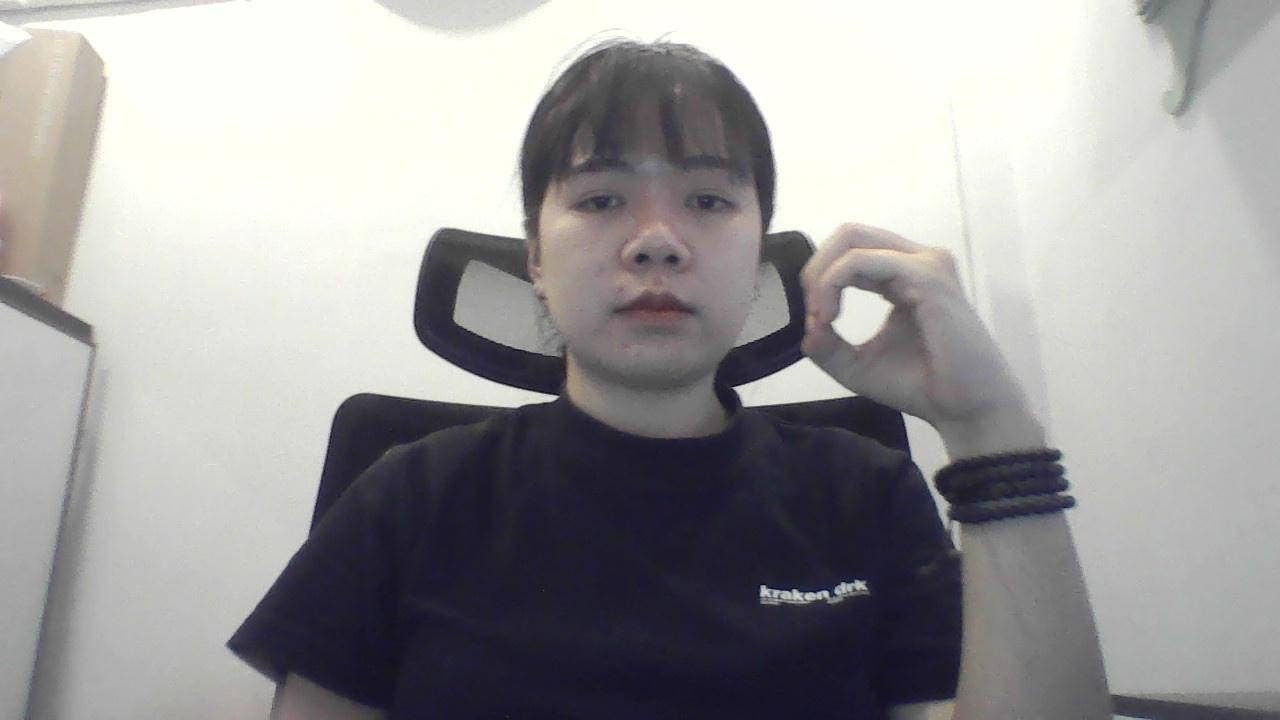O: (784, 207, 1029, 440)
